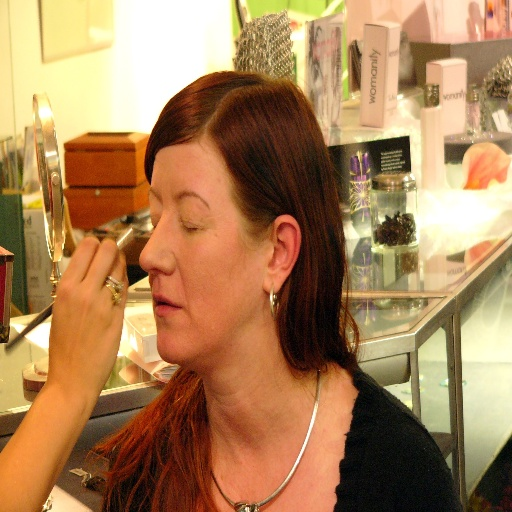hand: (39, 224, 125, 403)
